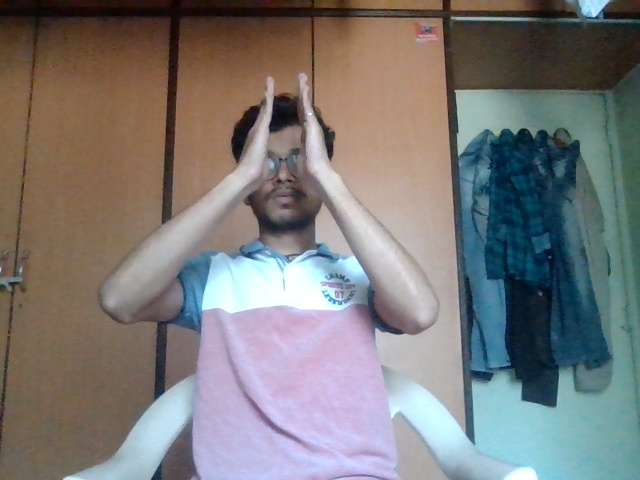morning: (232, 71, 332, 218)
